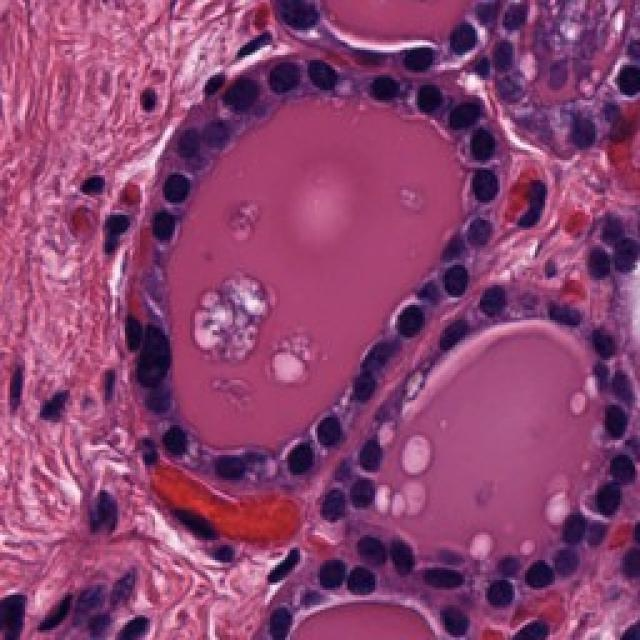normal: (363, 527, 452, 598), (289, 477, 374, 547), (427, 0, 505, 75), (448, 153, 520, 220), (145, 404, 207, 479), (565, 475, 640, 535), (304, 543, 364, 615), (503, 545, 565, 613), (352, 62, 418, 125), (464, 260, 508, 353), (590, 42, 640, 120), (215, 63, 270, 130), (425, 248, 482, 310), (255, 48, 313, 107), (574, 393, 638, 445), (313, 391, 357, 466), (150, 157, 205, 215), (341, 425, 396, 477)
